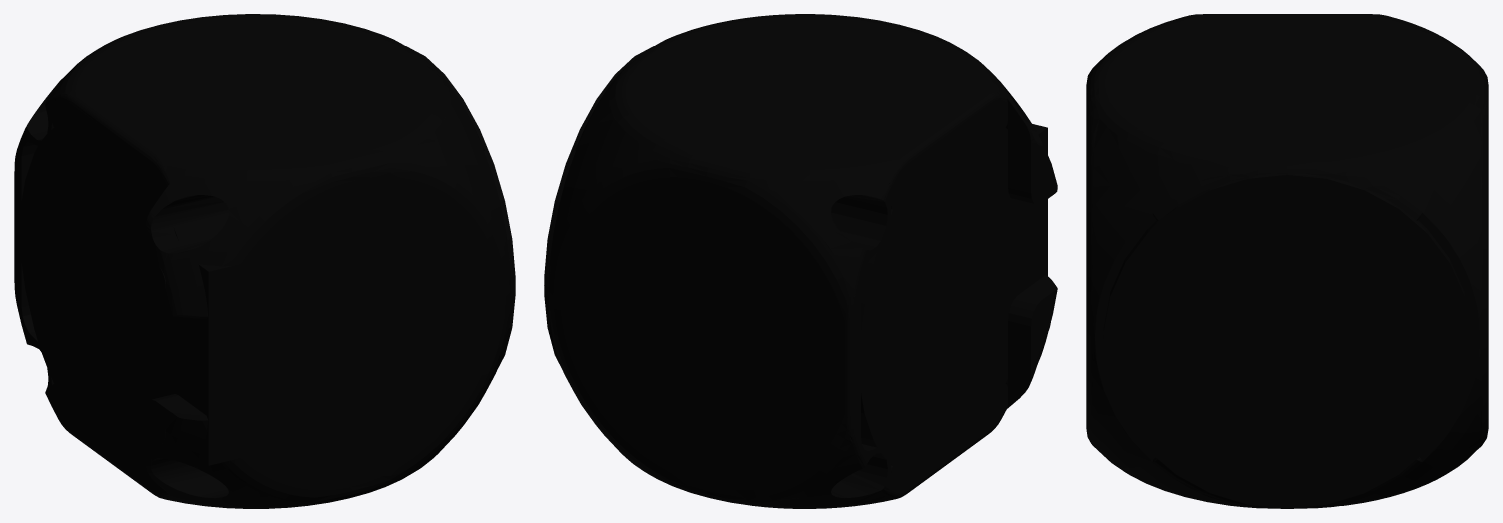
File: left_arm_link6.obj
The picture shows the model from 3 angles, left to right: view 1: azimuth 30°, elevation 25°; view 2: azimuth 150°, elevation 25°; view 3: azimuth 270°, elevation 25°; orthographic projection. The views are drawn at different scales.
Parts seen in each view (by area): view 1: left_arm_link6; view 2: left_arm_link6; view 3: left_arm_link6.
Boxes of the visible parts, bbox=[...] form: left_arm_link6: bbox=[14, 14, 515, 508]; left_arm_link6: bbox=[544, 14, 1057, 508]; left_arm_link6: bbox=[1086, 14, 1488, 508].
Bounding box in the file's own units: 0.0585 × 0.0635 × 0.059.
Materials: 1 (1 with a texture image).
